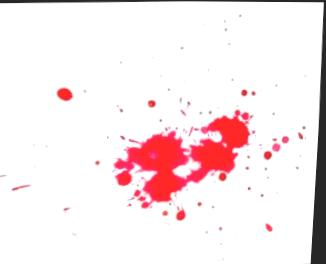Fire: (128, 115, 251, 208), (118, 172, 134, 185), (57, 88, 73, 100), (115, 157, 130, 168), (13, 184, 33, 190), (244, 114, 255, 124), (178, 209, 188, 220), (265, 150, 274, 159), (117, 103, 125, 112), (274, 143, 283, 151), (95, 157, 103, 166), (268, 223, 276, 232), (130, 138, 143, 143), (149, 99, 157, 107), (243, 111, 250, 119), (190, 126, 195, 136), (242, 88, 249, 95), (284, 135, 291, 142), (65, 207, 73, 213), (181, 109, 187, 116), (300, 131, 306, 138), (236, 109, 242, 115), (165, 210, 171, 216), (188, 101, 192, 109), (180, 96, 184, 104), (251, 130, 258, 134), (122, 134, 127, 139), (252, 90, 257, 95), (249, 186, 254, 191), (199, 201, 205, 205), (209, 109, 214, 113), (185, 128, 189, 133), (0, 175, 8, 177), (304, 124, 308, 128), (221, 226, 225, 230), (269, 175, 273, 179), (247, 166, 252, 169), (249, 154, 252, 158), (263, 193, 266, 197), (298, 165, 302, 168), (267, 167, 270, 170), (160, 118, 163, 121), (201, 110, 203, 113), (196, 128, 198, 129)
